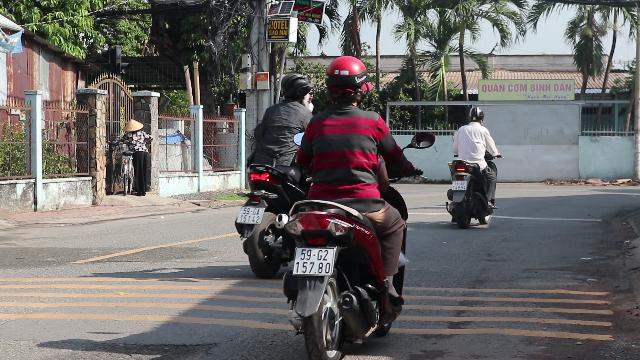helmet: (321, 55, 369, 108), (278, 73, 310, 99), (467, 106, 485, 124)
licenseplate: (294, 248, 334, 274), (237, 206, 263, 224), (452, 180, 466, 189)
motorcyclist: (275, 52, 421, 356), (234, 68, 308, 278), (444, 105, 498, 227)
